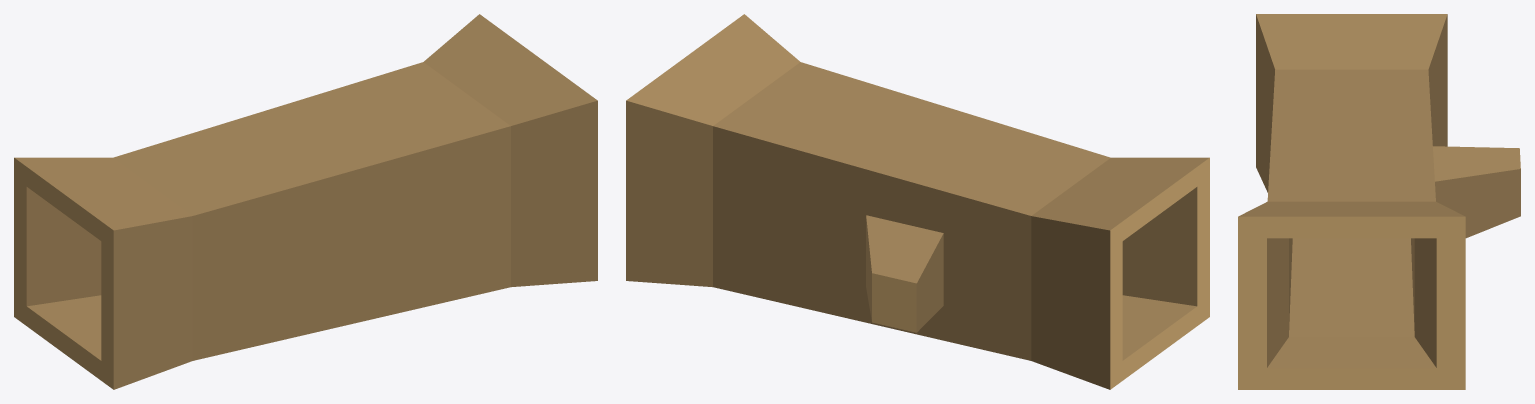
File: Fallen_Trunk_01.obj
3 views of the same model, side by side, from view 1: azimuth 30°, elevation 25°; view 2: azimuth 150°, elevation 25°; view 3: azimuth 270°, elevation 25° (orthographic). The views are drawn at different scales.
Visible parts, largest first — view 1: Mesh1 Fallen_Trunk Model; view 2: Mesh1 Fallen_Trunk Model; view 3: Mesh1 Fallen_Trunk Model.
Boxes of the visible parts, x1,y1,x2,y2 form: Mesh1 Fallen_Trunk Model: (14,14,597,389); Mesh1 Fallen_Trunk Model: (626,14,1209,389); Mesh1 Fallen_Trunk Model: (1238,14,1520,389).
Size of the model in its own units: 2.19 by 0.7952 by 1.18.
Materials: 1 (1 with a texture image).
